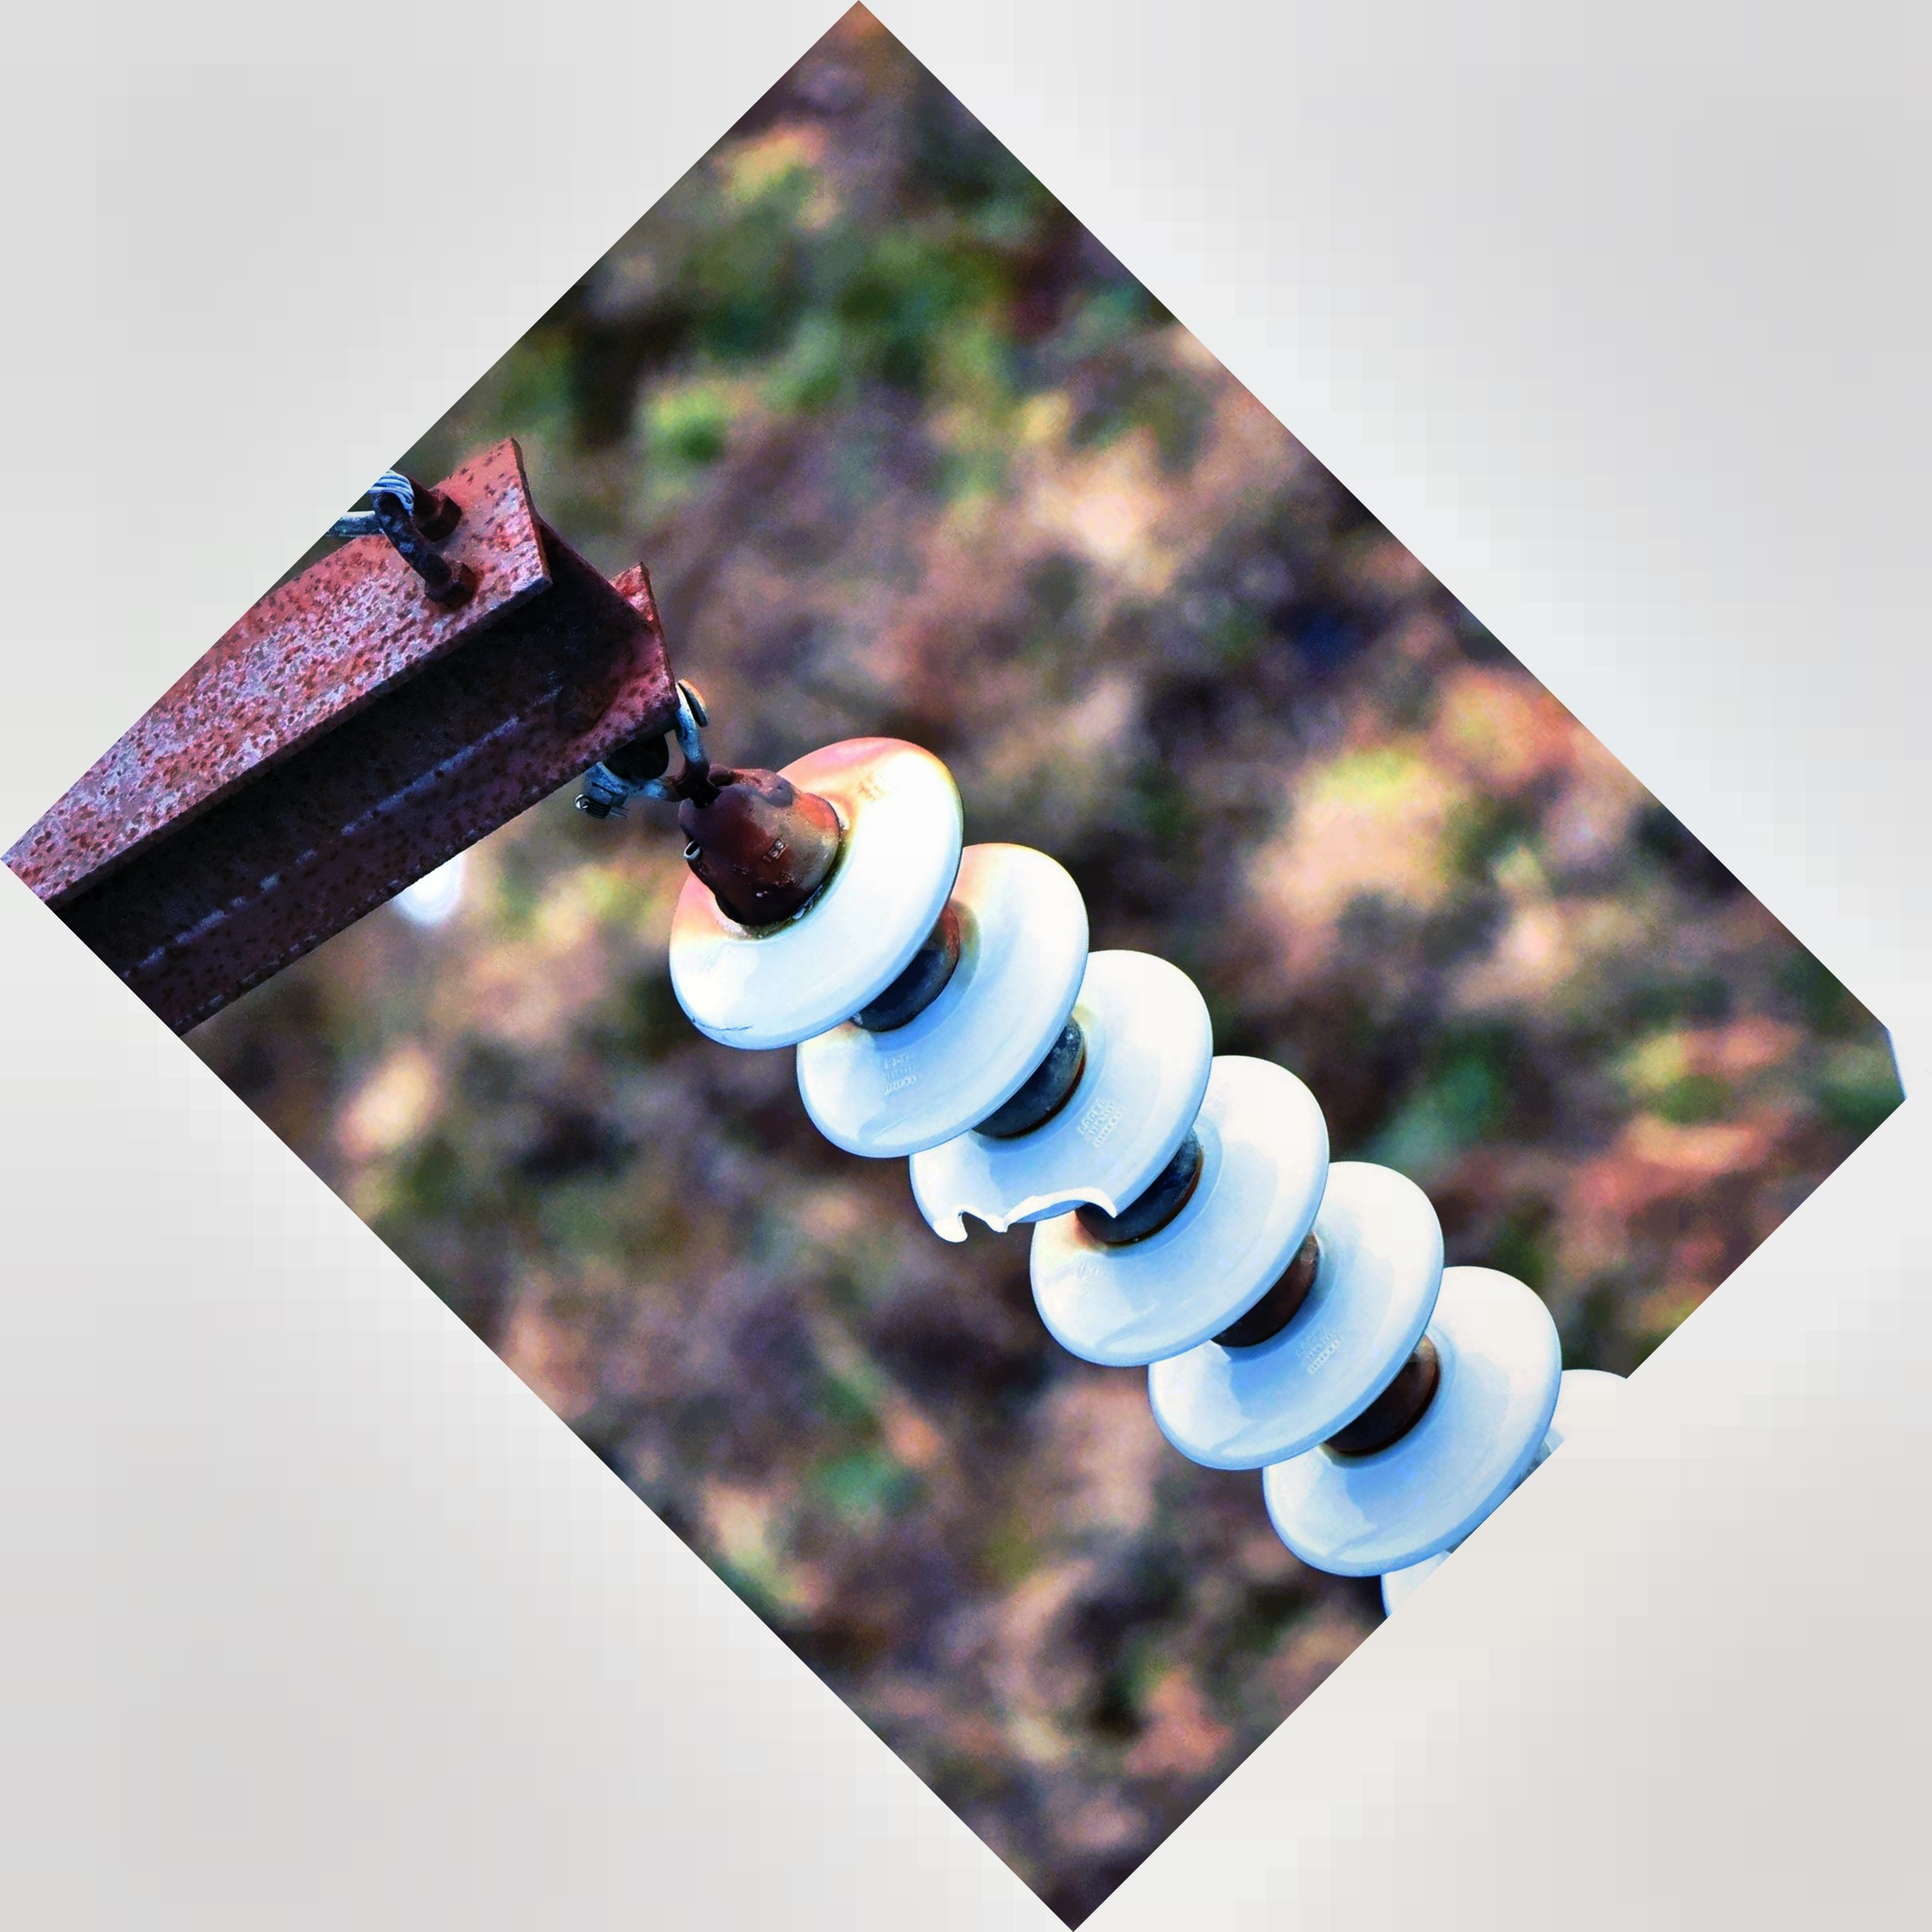insulator breakage: (892, 932, 1224, 1258)
